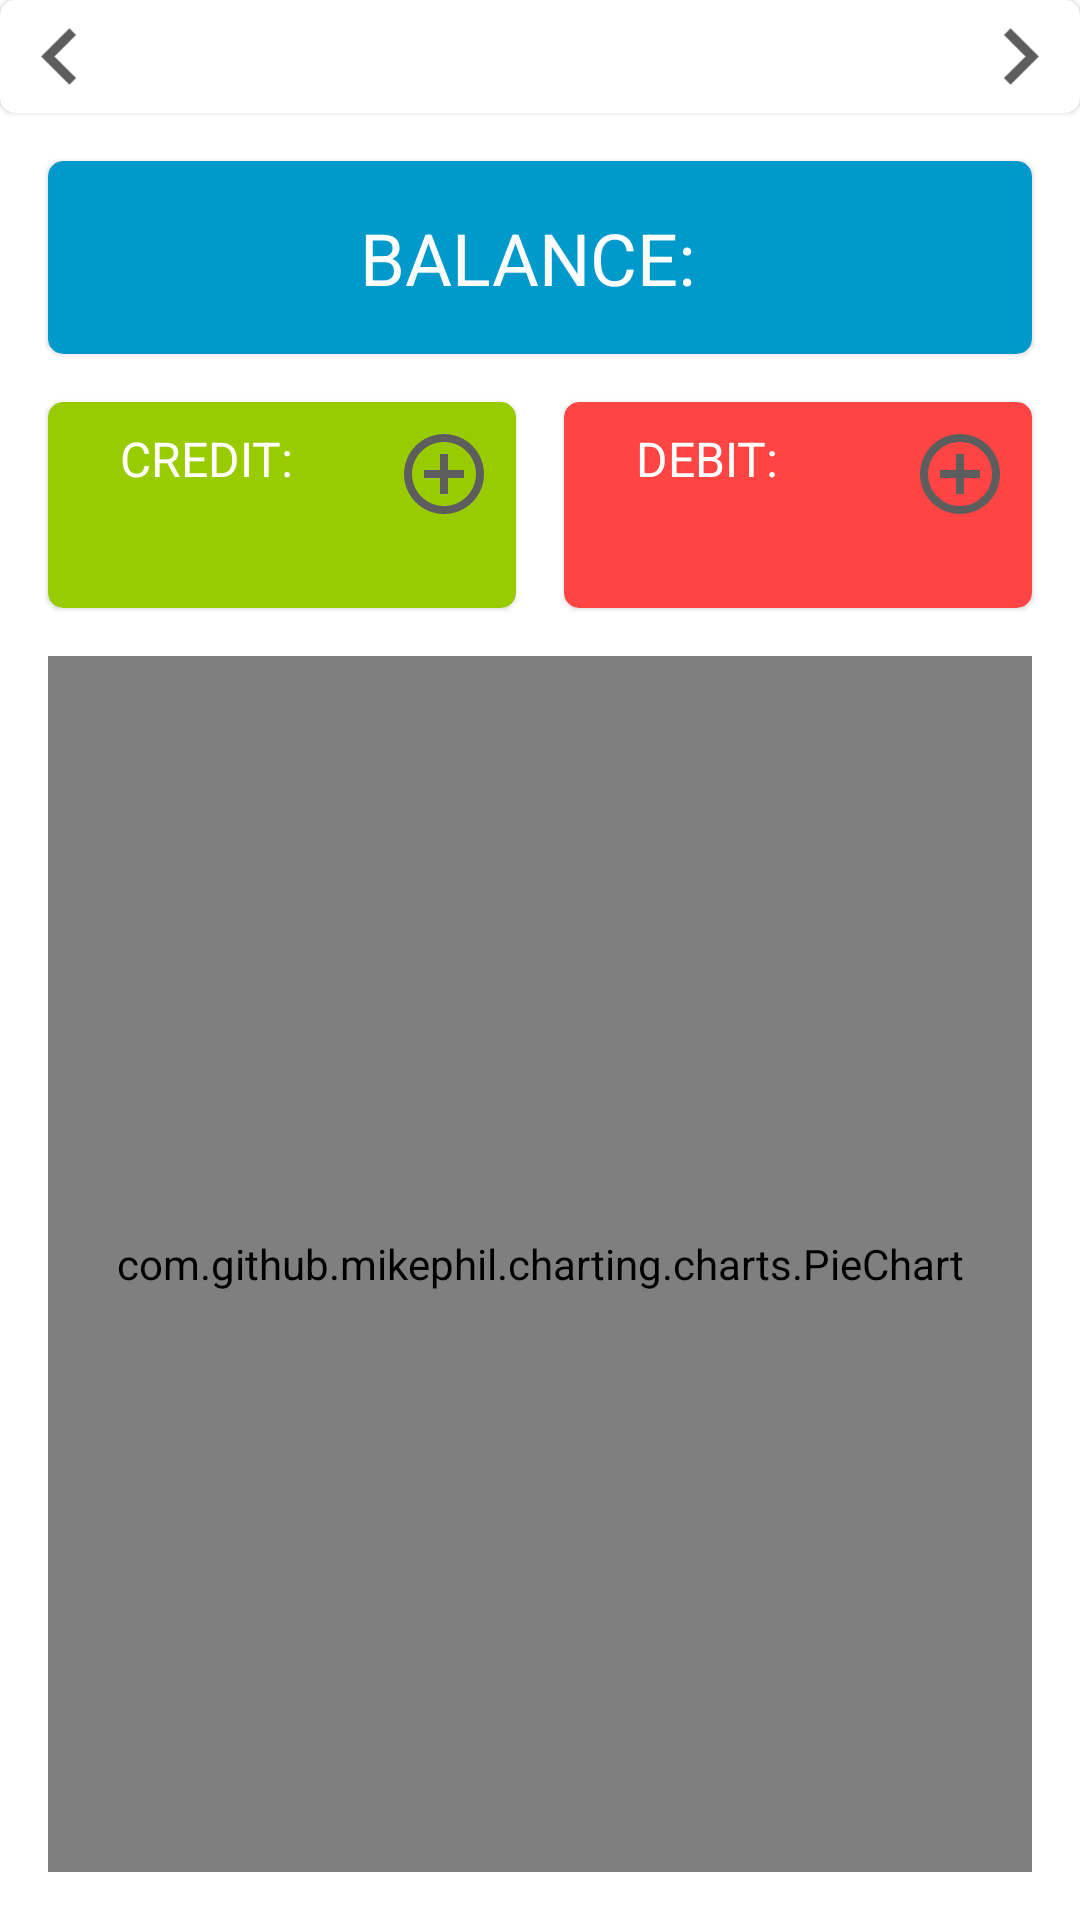

Icons on this 1080×1920 Android screen, each with the point to tap as point (x, y):
add circle: point (444, 474), point (960, 474)
chevron left: point (38, 60)
chevron right: point (1042, 60)
